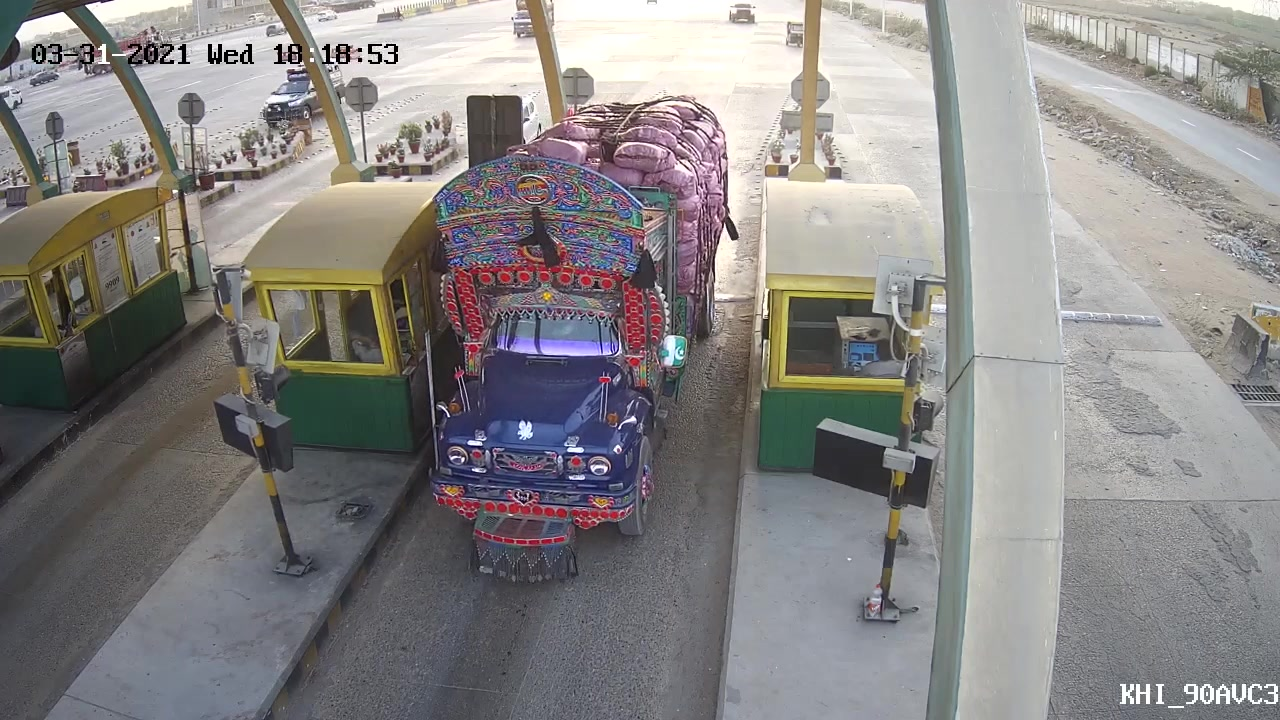F5: (403, 153, 689, 588)
